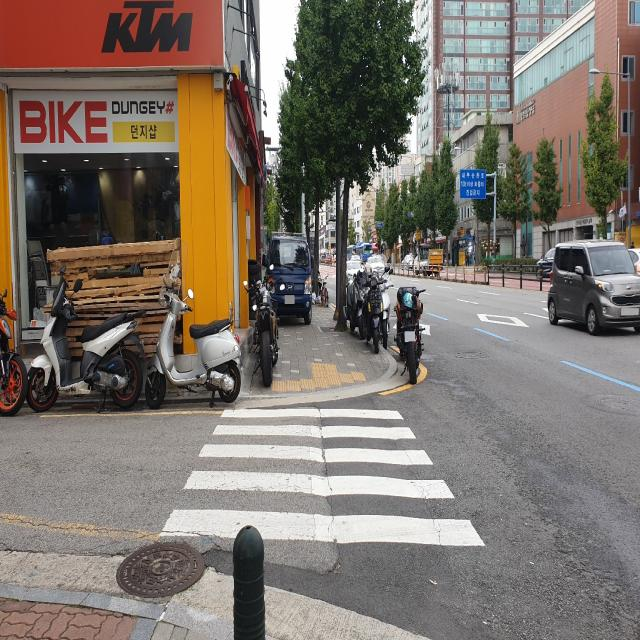횡단보도: (158, 405, 488, 550)
